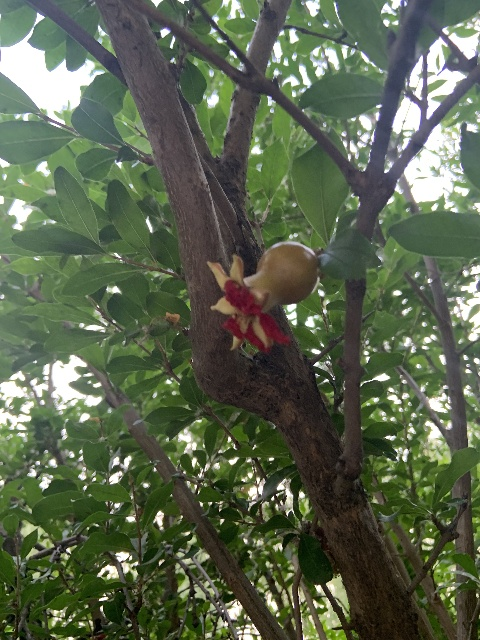early-fruit: (207, 243, 319, 354)
